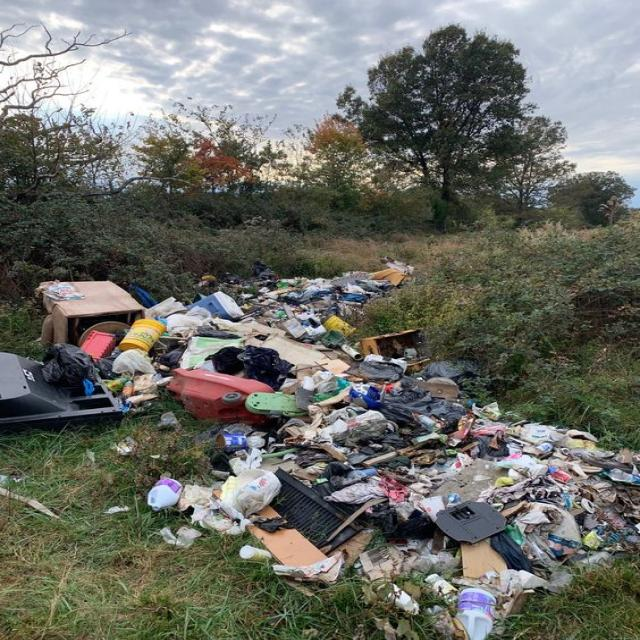dumping: (0, 252, 631, 632)
